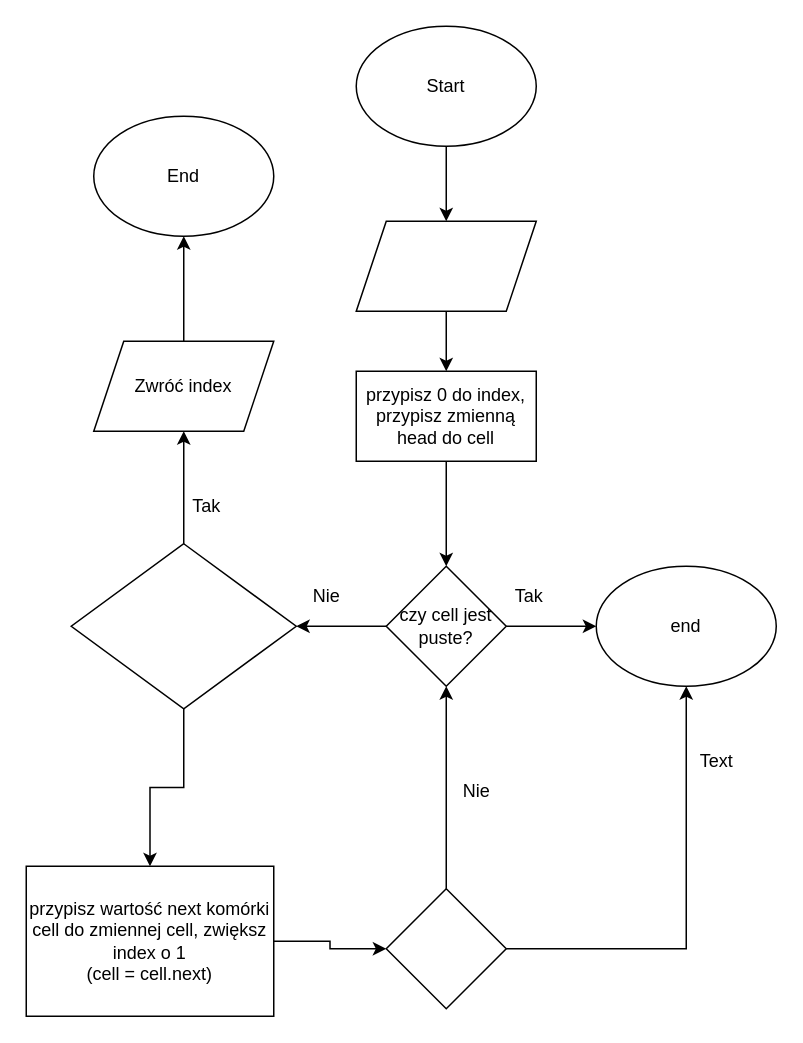
The diagram is 803 pixels wide and 1043 high, and some of its shapes have lost their labels. Here are the shapes that lost their labels. From the top down, the centre of each, then its label:
At (x=445, y=265): "umieść zmienną query jako wartość wartownika".
At (x=183, y=625): "czy dane komórki cell są równe wartości wartownika".
At (x=445, y=948): "czy cell i tail to jeden obiekt?".
